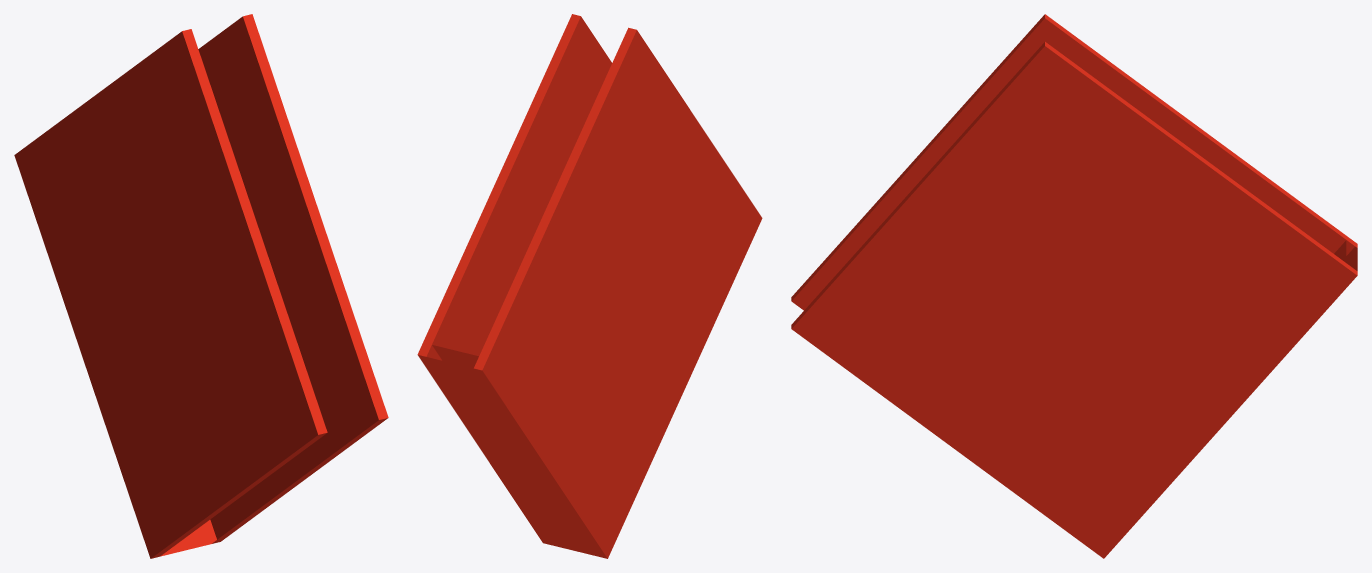
The model's file is BookCover.glb.
3 views of the same model, side by side, from view 1: azimuth 30°, elevation 25°; view 2: azimuth 150°, elevation 25°; view 3: azimuth 270°, elevation 25° (orthographic). The views are drawn at different scales.
Visible parts, largest first — view 1: Cube; view 2: Cube; view 3: Cube.
Part boxes in pixels (box(x1,y1,x2,y2)): Cube: box(14, 14, 388, 558); Cube: box(417, 14, 762, 558); Cube: box(791, 14, 1357, 558).
Size of the model in its own units: 0.0781 by 0.5845 by 0.5845.
